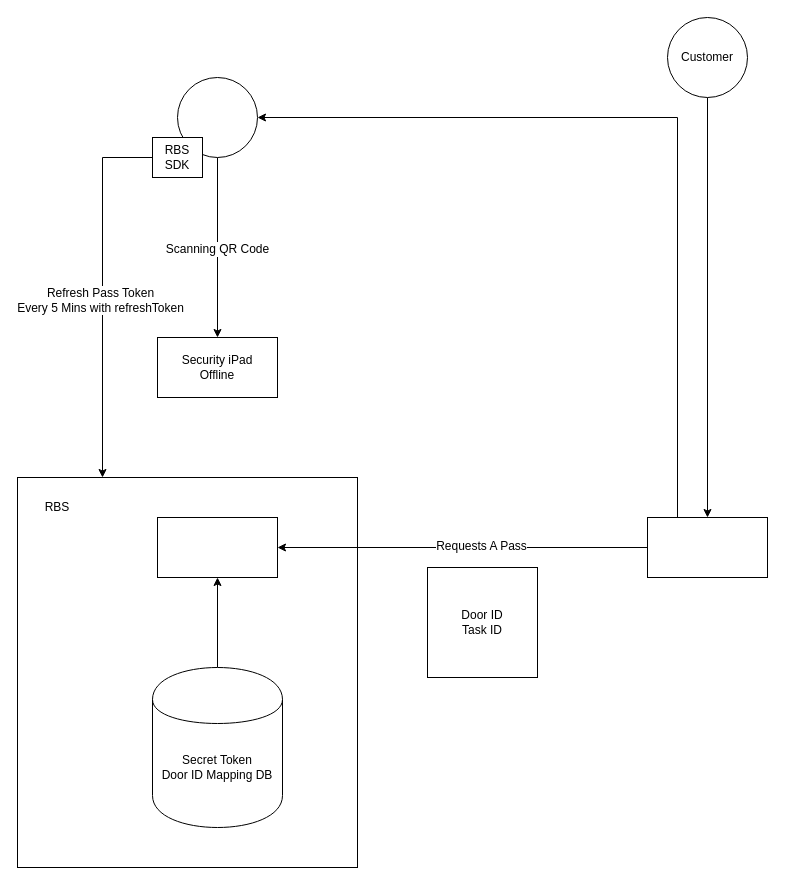
This 785x885 diagram has some shape labels left out. Here are the shapes that lost their labels. From the top down, the box of each, then its label:
(176, 76, 258, 158): Delivery Guy
(156, 516, 278, 578): Security Center Just creates temporary tokens with task id's in them
(646, 516, 768, 578): Getir
